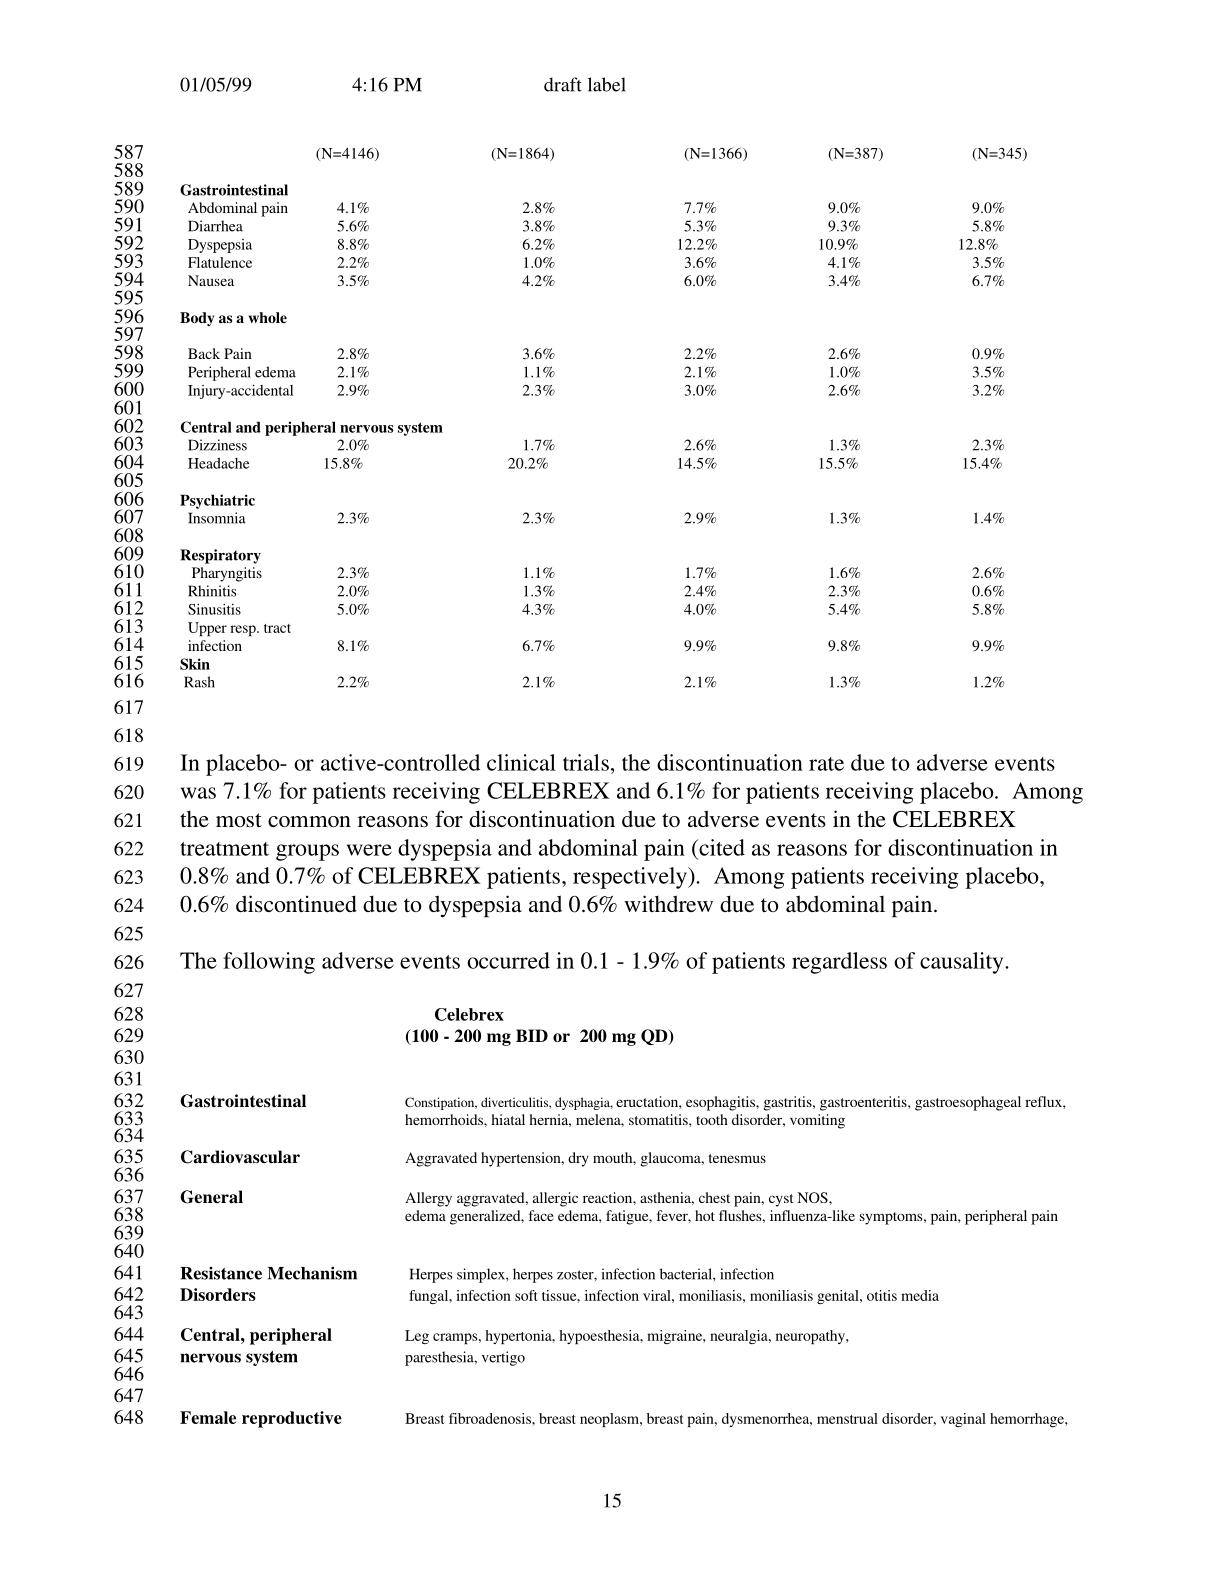nolines: (177, 145, 1031, 690), (177, 1005, 1072, 1428)
